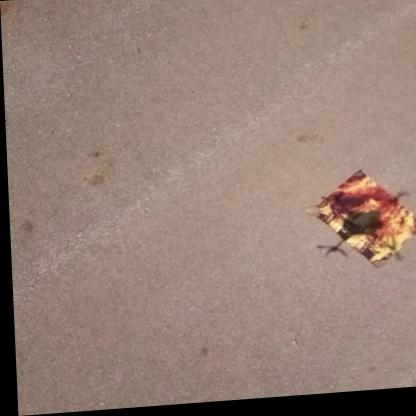fire-poster: (300, 170, 416, 277)
